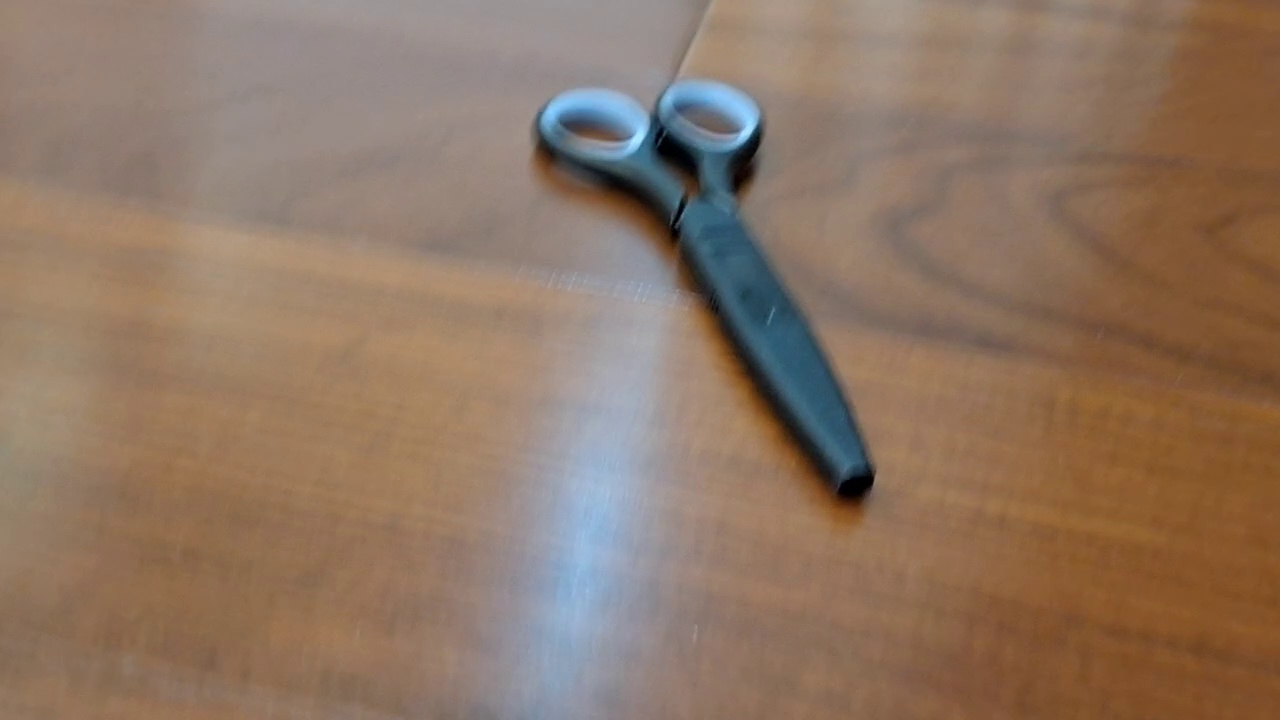scissors: (531, 77, 876, 501)
